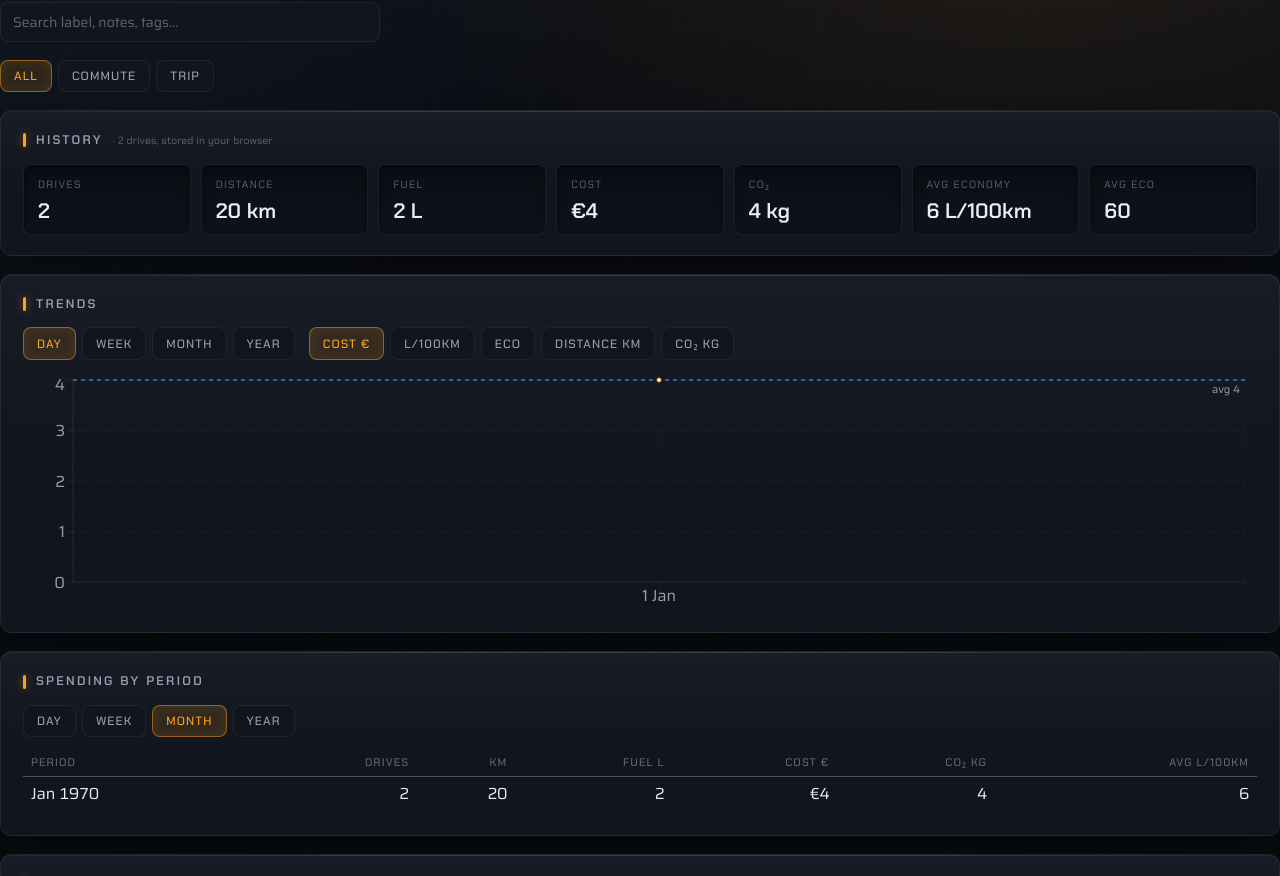
Test case: HistoryView tag filter › a tag chip narrows the Drives list; All restores
This screenshot has width=1280, height=876.
Click the button "commute" at (104, 76), box [58, 60, 150, 92]
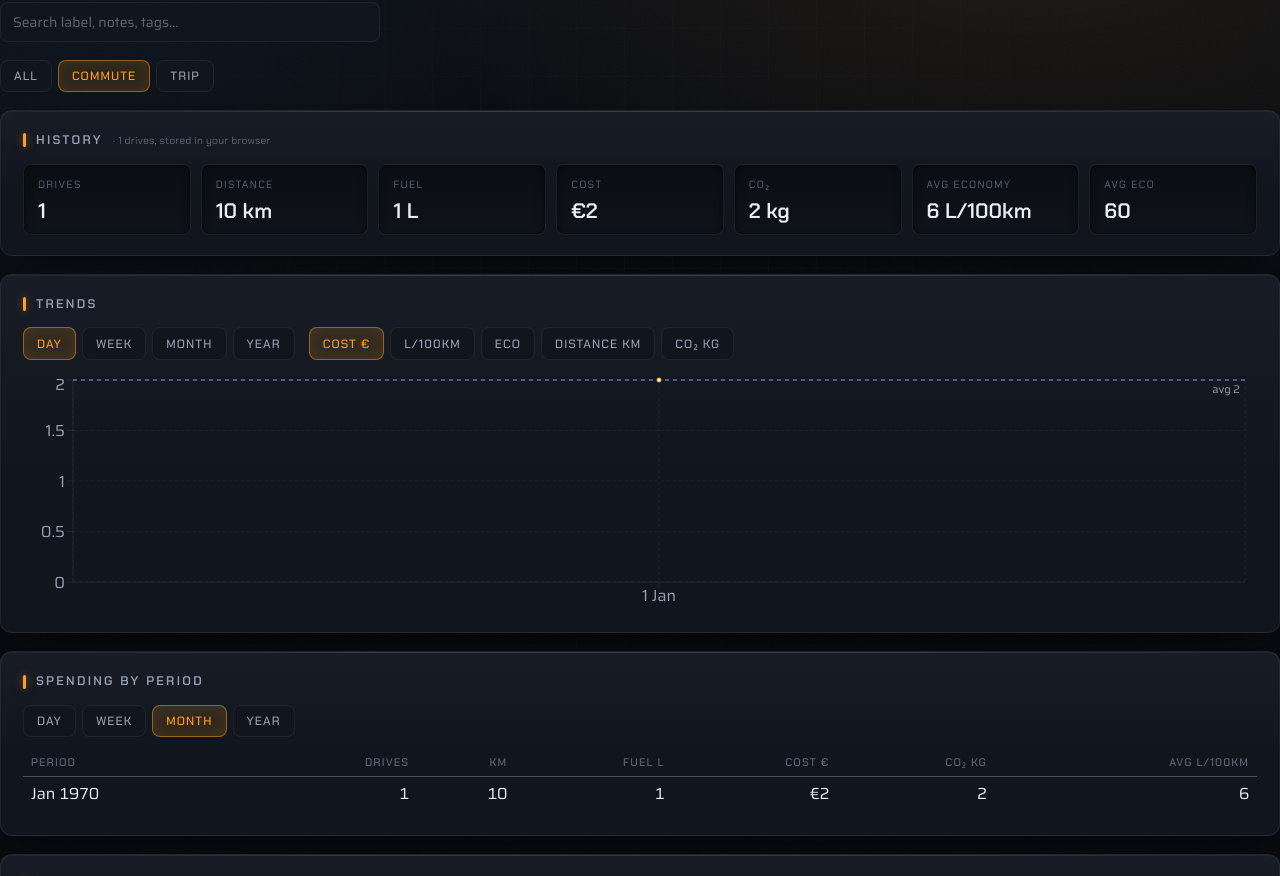
Check: the text "beta" is not shown
Check: the text "· 1 drives, stored in your browser" is shown, box [113, 133, 271, 148]
Click the button "All" at (26, 76), box [0, 60, 52, 92]
(page scrolled)
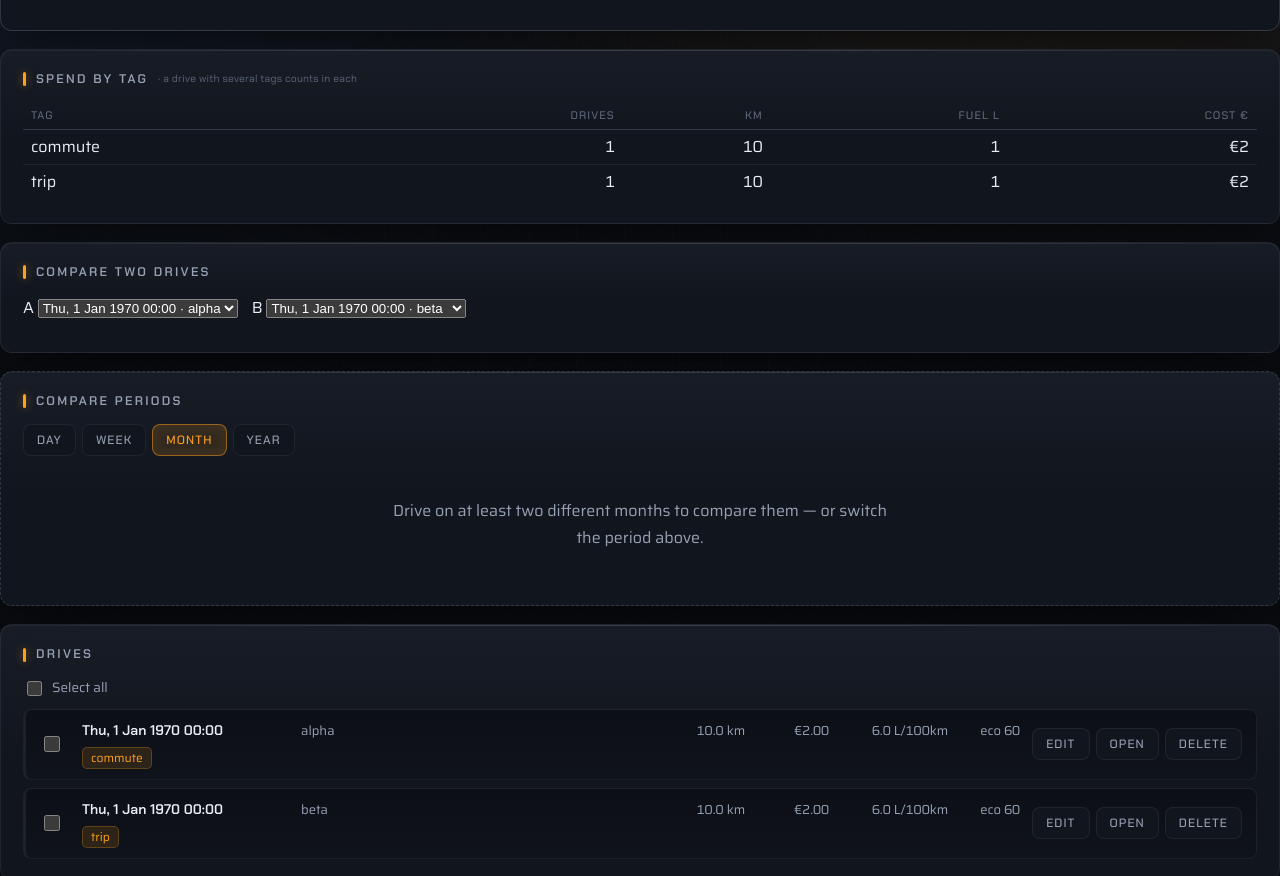
Check: the text "beta" is shown, box [301, 799, 328, 820]
